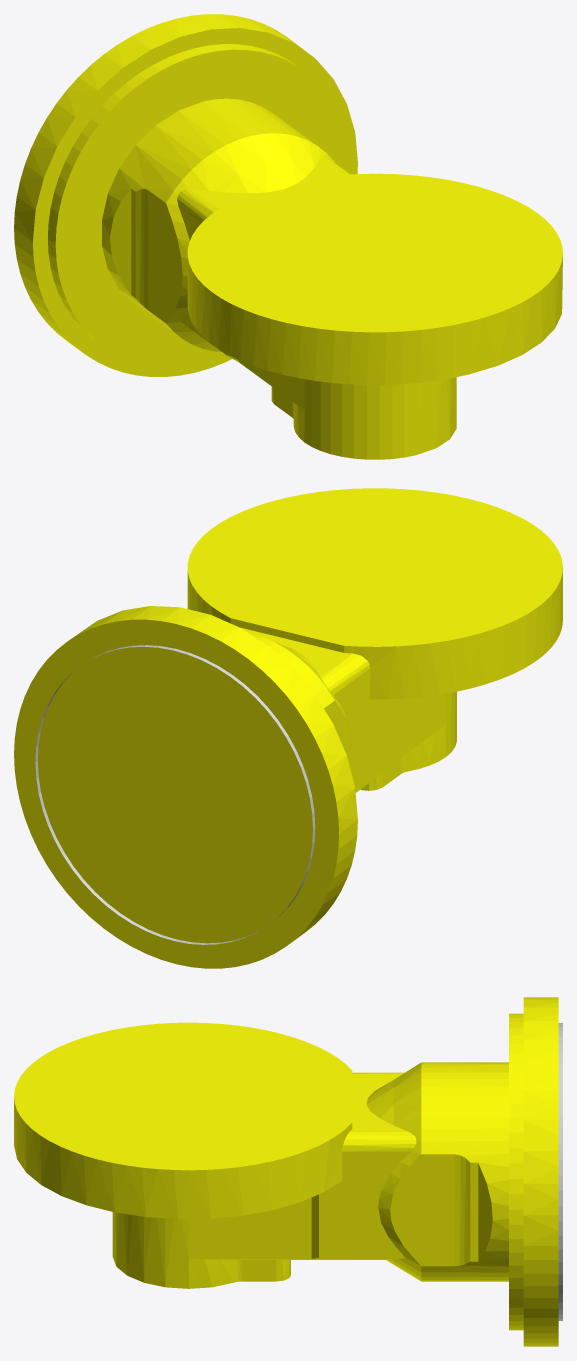
3 renders of one model, top to bottom at view 1: azimuth 30°, elevation 25°; view 2: azimuth 150°, elevation 25°; view 3: azimuth 270°, elevation 25°, orthographic. The views are drawn at different scales.
Visible parts, largest first — view 1: node; view 2: node; view 3: node.
Part boxes in pixels (x1,y1,x2,y2): node: (14, 14, 562, 459); node: (14, 488, 562, 968); node: (14, 997, 562, 1346).
Bounding box in the file's own units: 239 × 239 × 376.
